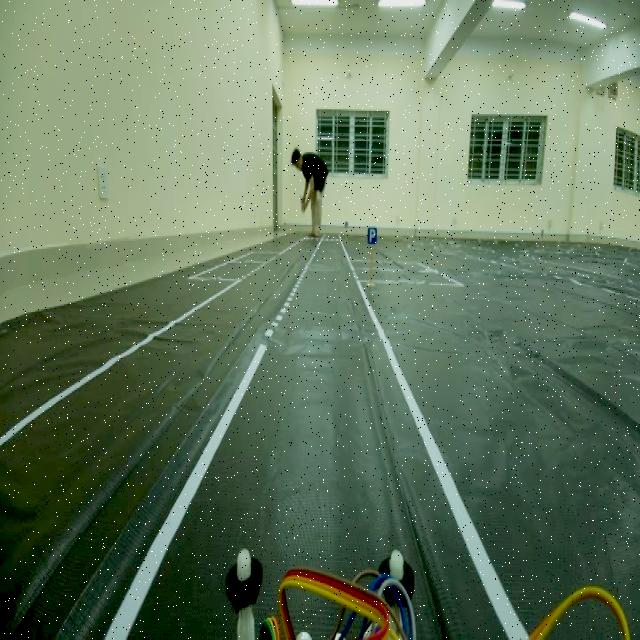parking: (364, 222, 378, 255)
